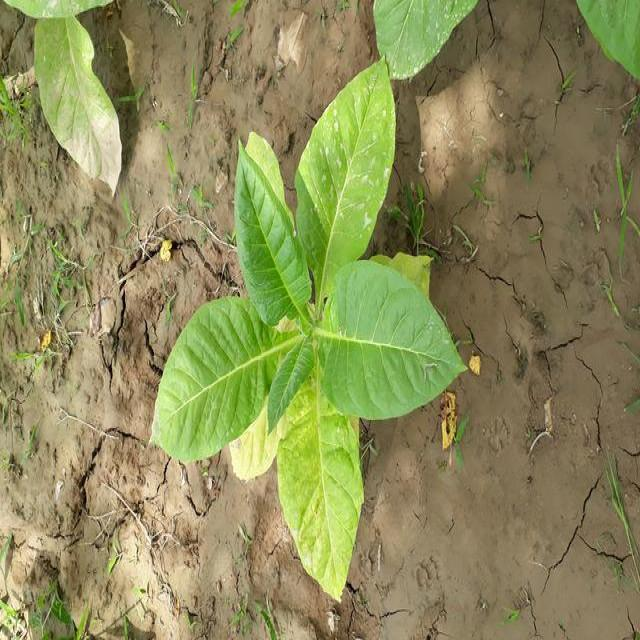crop: (162, 75, 452, 600), (8, 0, 122, 187), (358, 0, 478, 81), (574, 0, 640, 76)
